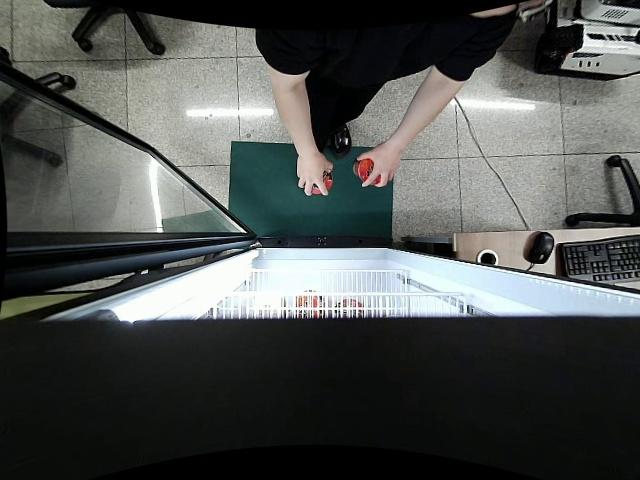00_hand: (356, 147, 401, 189), (296, 156, 332, 195)
02_shinRamen_S: (352, 157, 381, 186), (309, 169, 333, 195)
